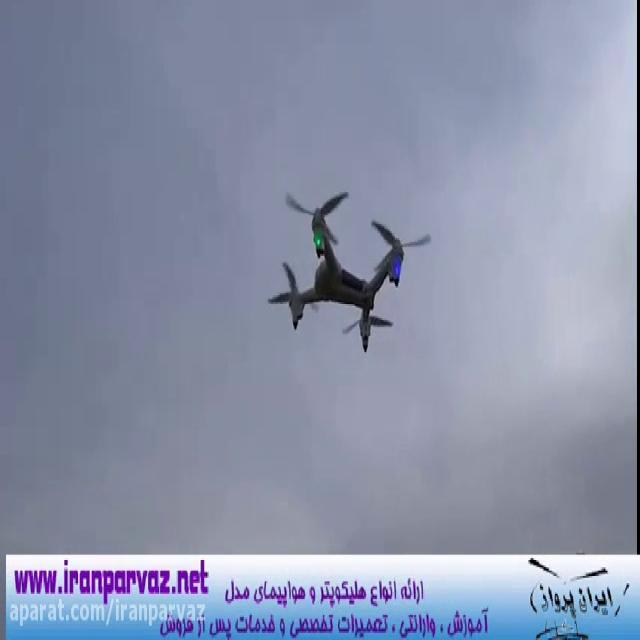drone: (262, 183, 434, 356)
